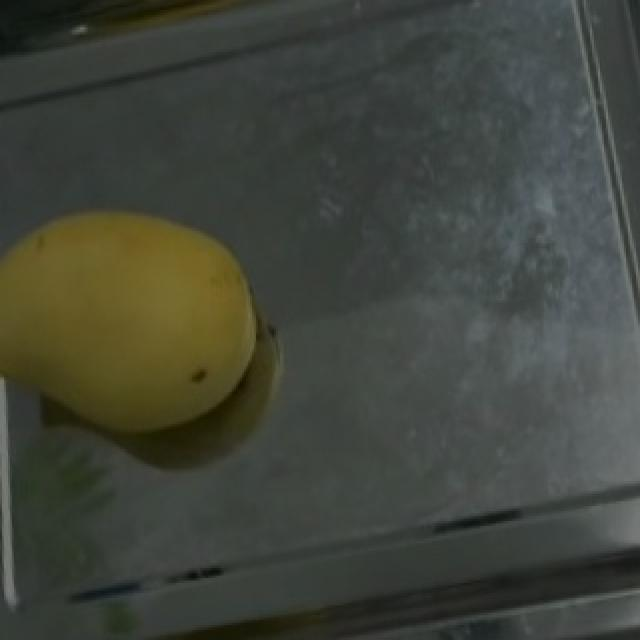fruit: (0, 164, 304, 469)
